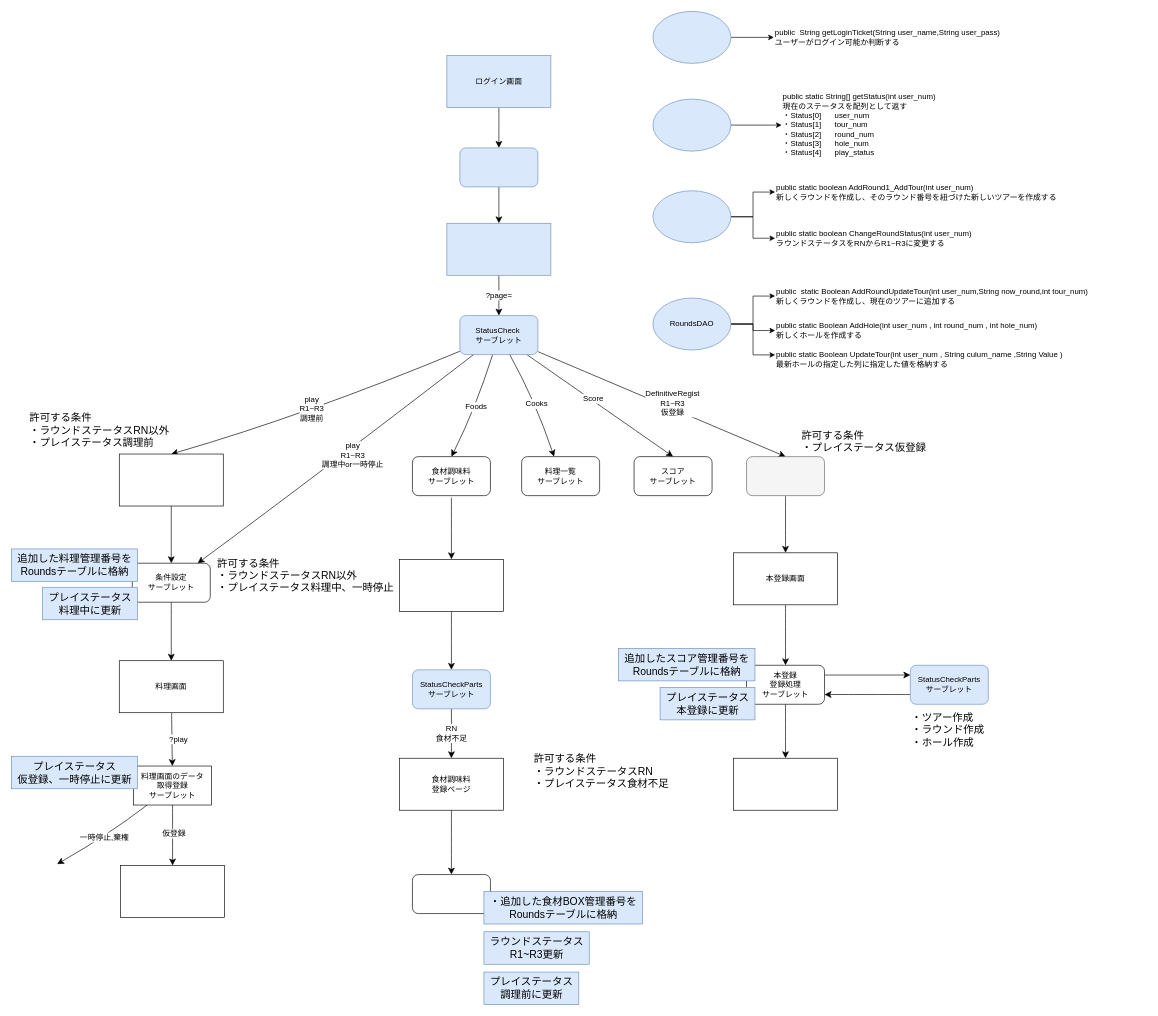
The diagram is 1158 pixels wide and 1016 high, and some of its shapes have lost their labels. Each missing label, with the centre of its shape:
"Login サーブレット" goes at [498,167].
"StatusDAO" goes at [691,124].
"ToursDAO" goes at [691,216].
"UsersDAO" goes at [691,37].
"ツアー選択" goes at [171,479].
"メイン画面" goes at [498,249].
"仮登録完了" goes at [172,891].
"本日のスコア ページ" goes at [785,784].
"本登録 サーブレット" goes at [785,476].
"食材一覧ページ" goes at [451,585].
"食材調味料 登録処理 サーブレット" goes at [451,894].
